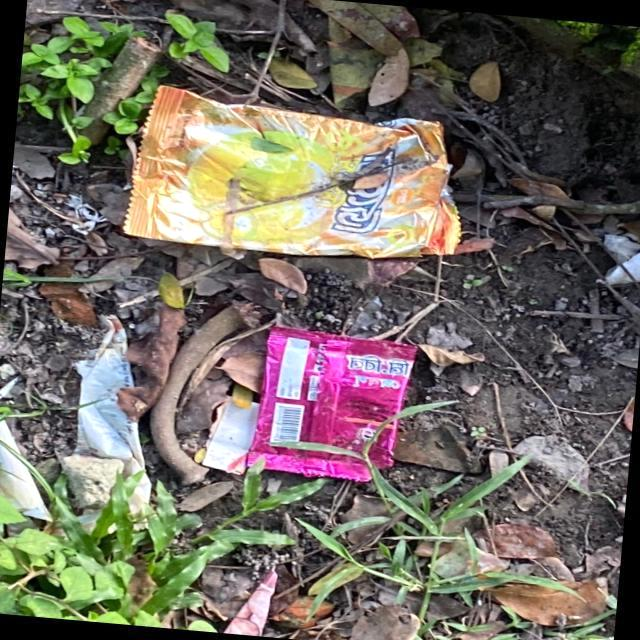packet: (111, 83, 495, 272), (246, 325, 435, 484)
